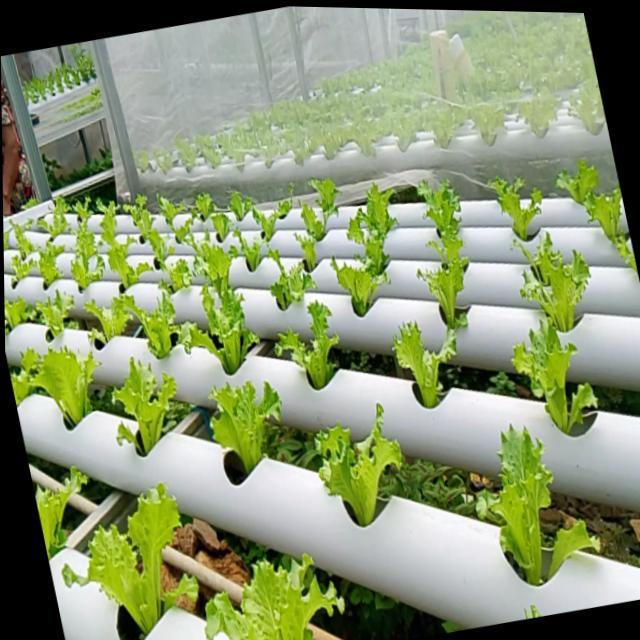Baby: (60, 482, 196, 632), (475, 426, 550, 586), (203, 555, 342, 640), (313, 405, 401, 528), (509, 321, 594, 436), (417, 183, 467, 340), (208, 384, 279, 486), (515, 235, 587, 334), (110, 360, 177, 457), (30, 344, 98, 427), (111, 289, 189, 361), (274, 303, 337, 392), (391, 324, 454, 410), (346, 186, 394, 276), (579, 186, 629, 261), (252, 253, 313, 313), (329, 261, 387, 319), (486, 180, 539, 243), (68, 205, 103, 293), (191, 236, 236, 299), (36, 198, 68, 239), (35, 242, 60, 286), (9, 223, 33, 261), (164, 260, 190, 293), (168, 216, 191, 247)
